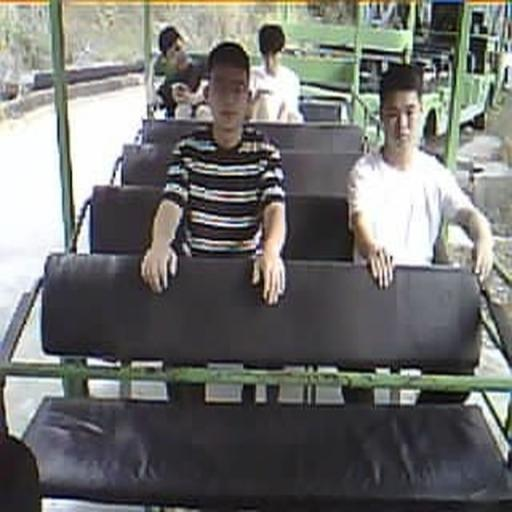persona: (140, 40, 288, 307), (346, 61, 494, 290), (145, 26, 214, 118), (247, 23, 304, 123)
